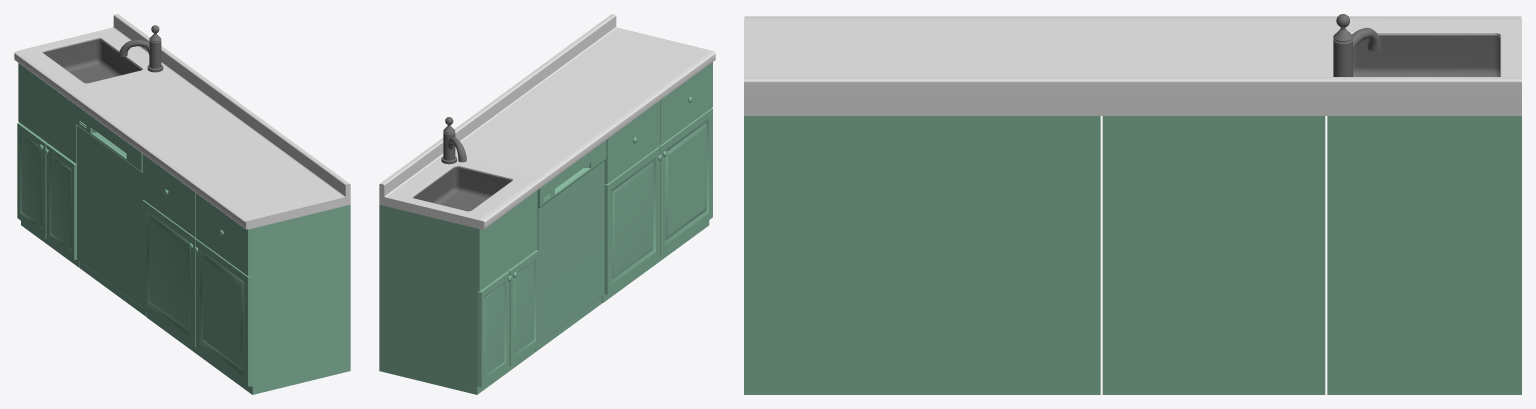
File: Counter.fbx
3 renders of one model, left to right at view 1: azimuth 30°, elevation 25°; view 2: azimuth 150°, elevation 25°; view 3: azimuth 270°, elevation 25°, orthographic. The views are drawn at different scales.
Parts seen in each view (by area): view 1: Cabinets_1, Countertop, Dishwasher, Cabinets_2, Sink, pCylinder1; view 2: Countertop, Cabinets_2, Cabinets_1, Dishwasher, Sink, pCylinder1; view 3: Cabinets_1, Countertop, Dishwasher, Cabinets_2, Sink, pCylinder1.
Part boxes in pixels (<box>): Cabinets_1: <box>142,154,350,394</box>; Countertop: <box>14,14,350,229</box>; Dishwasher: <box>75,105,146,316</box>; Cabinets_2: <box>17,63,79,267</box>; Sink: <box>43,39,141,83</box>; pCylinder1: <box>147,33,163,72</box>; Countertop: <box>379,14,715,229</box>; Cabinets_2: <box>379,190,538,394</box>; Cabinets_1: <box>602,62,712,302</box>; Dishwasher: <box>535,140,606,351</box>; Sink: <box>413,167,511,211</box>; pCylinder1: <box>441,125,456,164</box>; Cabinets_1: <box>744,116,1100,394</box>; Countertop: <box>744,16,1521,115</box>; Dishwasher: <box>1102,116,1325,394</box>; Cabinets_2: <box>1327,116,1521,394</box>; Sink: <box>1353,35,1500,76</box>; pCylinder1: <box>1333,27,1353,76</box>.
Size of the model in its own units: 0.6305 by 1.25 by 2.4.
